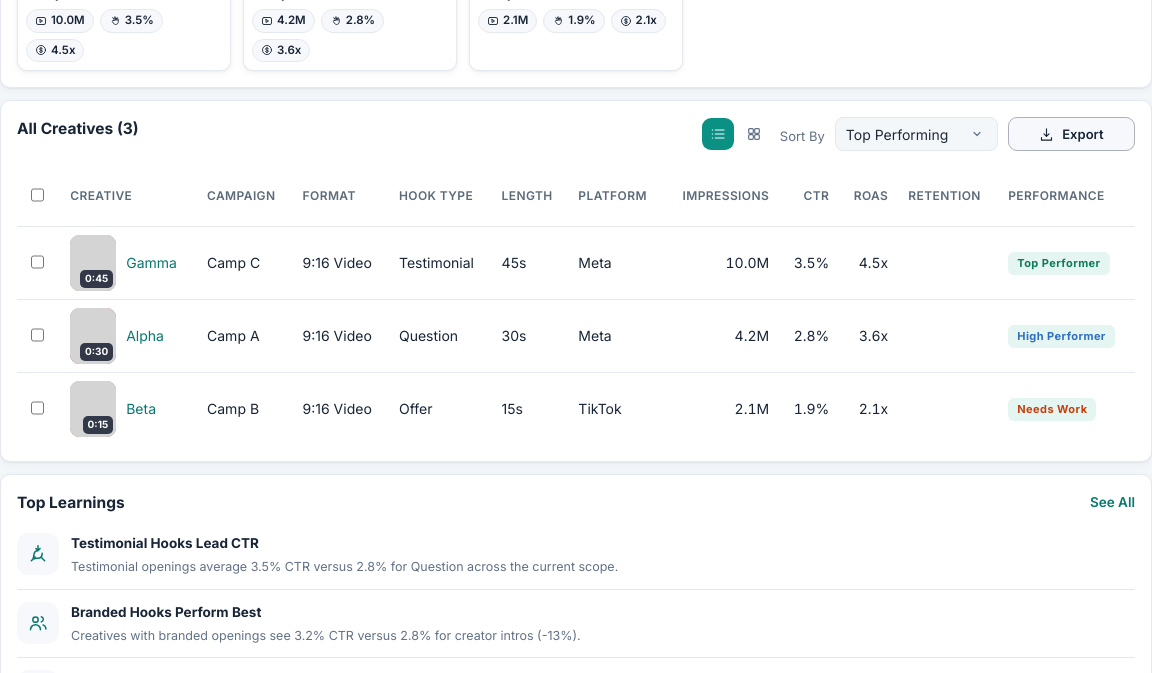
Test: CreativesPage › opens creative details with annotation facts and retention
(page scrolled)
Click the button "Alpha" at [145, 336], box [126,325,164,347]
(page scrolled)
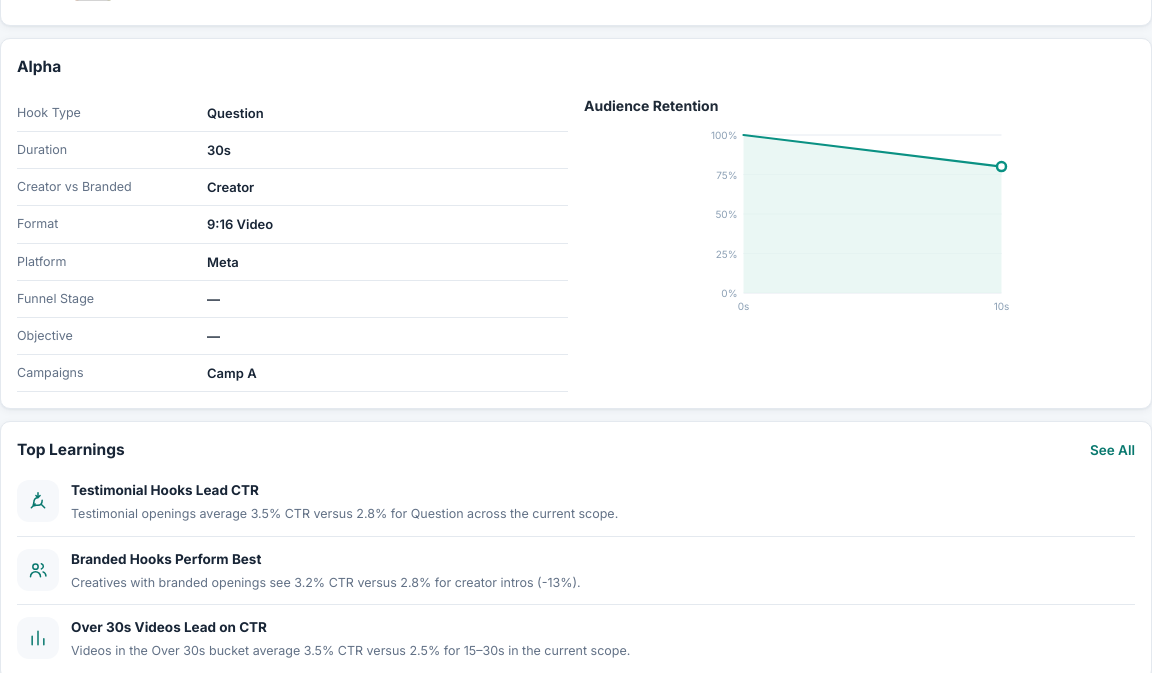
Expected: the heading "Audience Retention" is shown, [584,97,718,114]
Expected: the text "Objective" is shown, [17,328,73,343]
